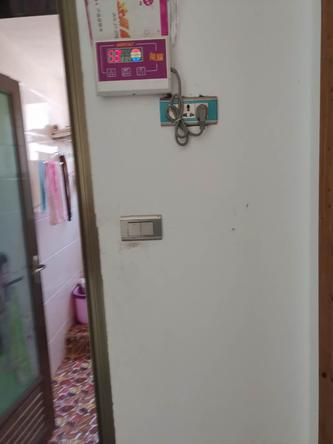switch: (127, 223, 140, 238), (141, 222, 153, 235)
